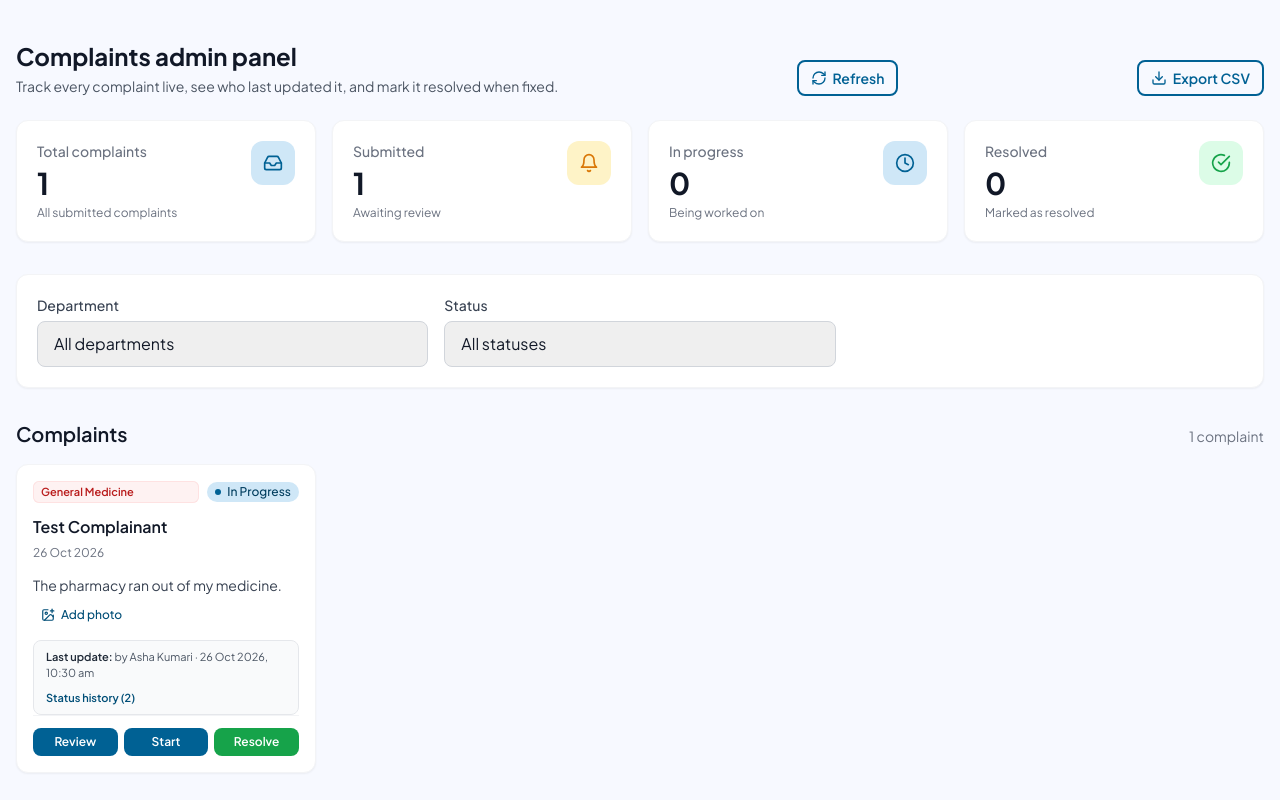
AdminComplaintsPanel › shows who last moved a complaint and the full status trail
Expected: the text "Last update: by Asha Kumari · 26 Oct 2026, 10:30 am" is shown, [46,649,286,682]
Click the heading "Status history (2)" at [90, 697], box [46,691,135,704]
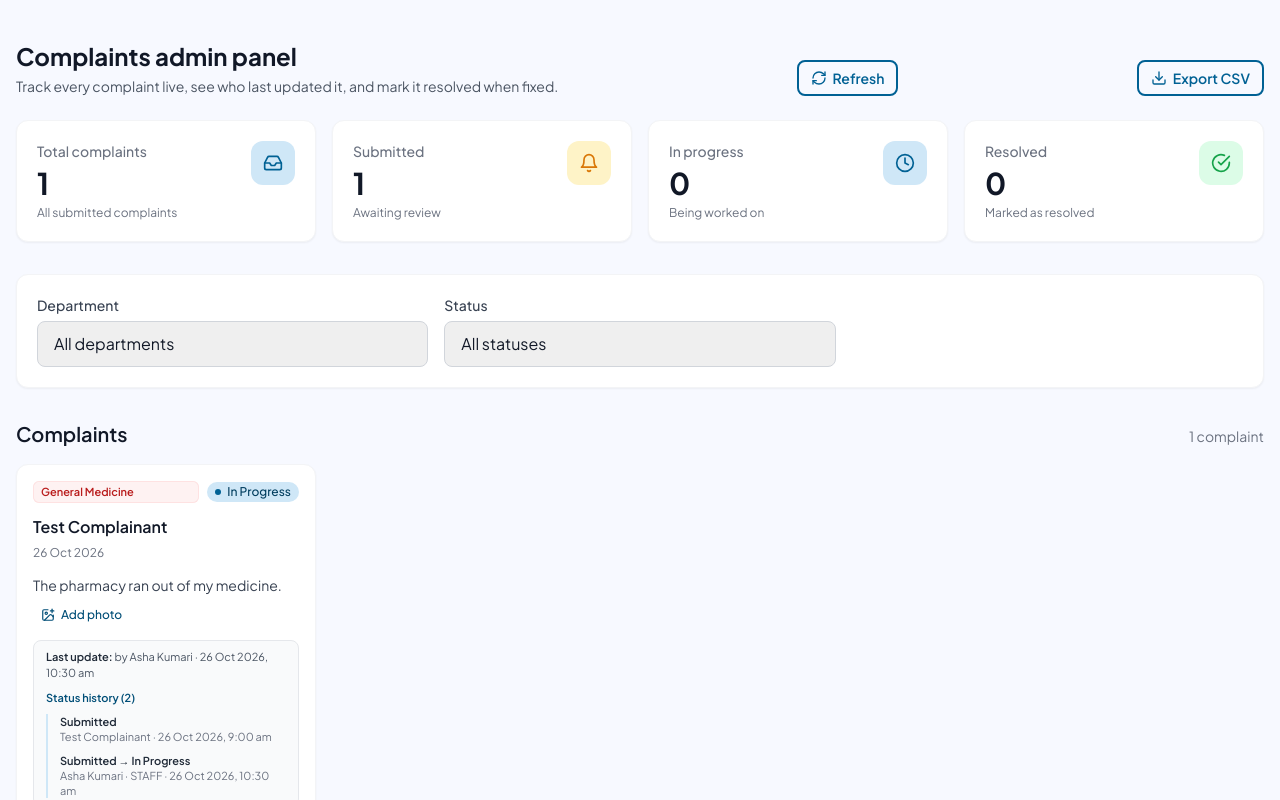
Expected: the text "Submitted → In Progress" is shown, [60,754,190,766]
Expected: the text "Submitted" below "Status history (" is shown, [60,715,117,728]
Expected: the text "Asha Kumari · STAFF · 26 Oct 2026, 10:30 am" is shown, [60,768,286,798]
